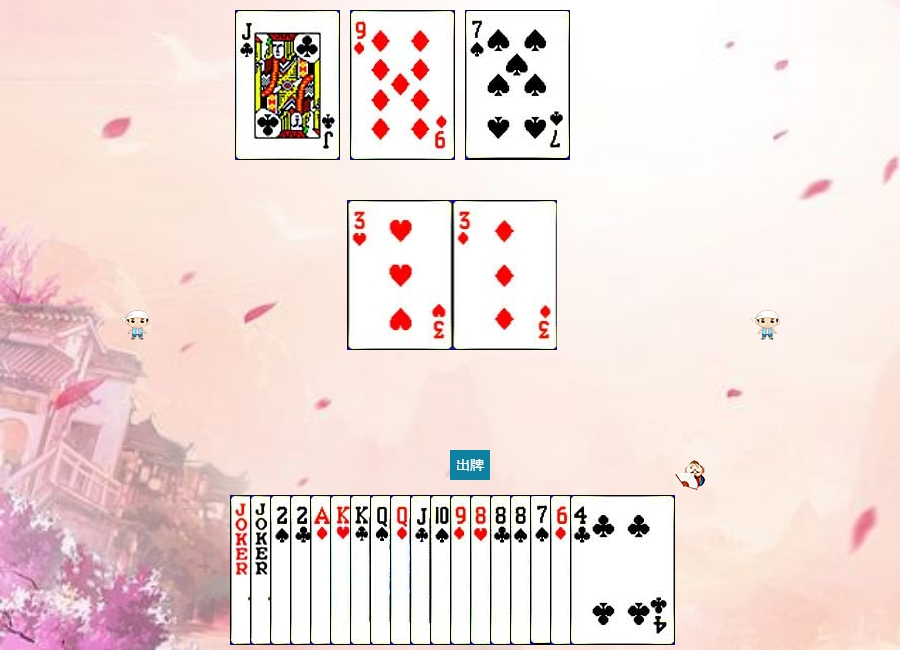10~4: (430, 495, 535, 645)
11~2: (235, 10, 340, 160), (410, 495, 515, 645)
12~1: (390, 495, 495, 645)
12~4: (370, 495, 475, 645)
13~2: (350, 495, 455, 645)
13~3: (330, 495, 435, 645)
14~1: (310, 495, 415, 645)
15~2: (290, 495, 395, 645)
15~4: (270, 495, 375, 645)
17~3: (250, 495, 355, 645)
18~4: (230, 495, 335, 645)
3~1: (453, 200, 558, 350)
3~3: (348, 200, 453, 350)
4~2: (570, 495, 675, 645)
6~1: (550, 495, 655, 645)
7~4: (465, 10, 570, 160), (530, 495, 635, 645)
8~2: (490, 495, 595, 645)
8~3: (470, 495, 575, 645)
8~4: (510, 495, 615, 645)
9~1: (350, 10, 455, 160), (450, 495, 555, 645)
